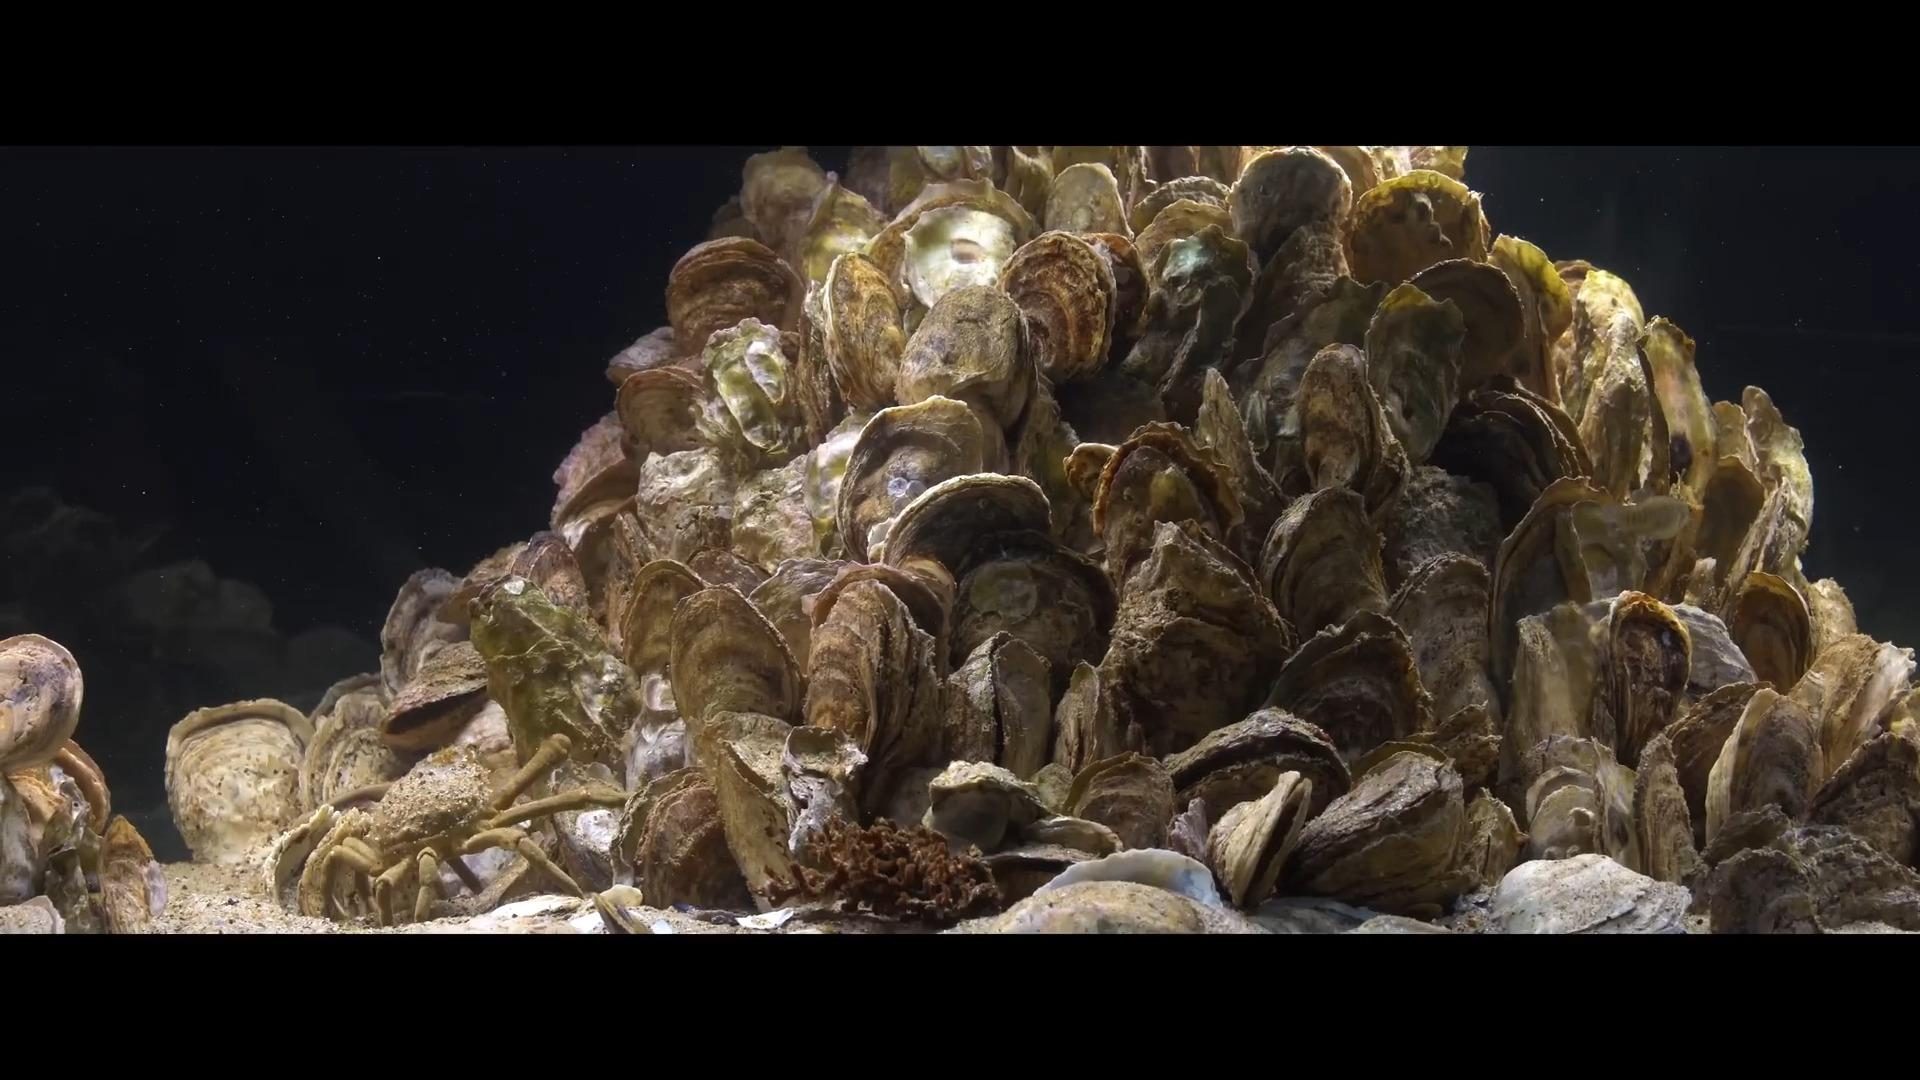Oyster: (469, 572, 645, 771), (1275, 745, 1470, 913), (1487, 475, 1623, 686), (804, 571, 938, 773), (832, 393, 988, 564), (1382, 550, 1506, 764), (947, 538, 1114, 692), (1084, 418, 1242, 579), (1108, 604, 1271, 757), (167, 700, 314, 869), (1265, 615, 1436, 756), (861, 178, 1030, 320), (1108, 513, 1271, 654), (1257, 481, 1393, 642), (705, 724, 820, 911), (1436, 389, 1581, 534), (1168, 707, 1344, 823), (1651, 679, 1776, 840), (895, 287, 1039, 427), (1222, 227, 1346, 384), (997, 227, 1120, 381), (1556, 262, 1650, 455), (1342, 164, 1486, 289), (674, 585, 802, 724), (1513, 731, 1639, 870), (881, 475, 1054, 576), (807, 248, 909, 418), (1598, 587, 1696, 764), (1799, 636, 1912, 785), (1552, 488, 1692, 608), (1367, 287, 1462, 463), (669, 240, 804, 361), (633, 773, 749, 914), (1292, 336, 1389, 505), (943, 629, 1046, 786), (1503, 608, 1596, 782), (1804, 729, 1920, 865), (1207, 767, 1316, 911), (1639, 315, 1720, 510), (1679, 448, 1768, 615), (632, 442, 750, 567), (299, 680, 405, 816), (1487, 232, 1576, 392), (702, 314, 800, 455), (1778, 829, 1920, 927), (1385, 460, 1501, 579), (380, 640, 497, 756), (748, 554, 855, 679), (1737, 382, 1812, 559), (617, 554, 707, 698), (927, 757, 1054, 858), (0, 633, 87, 777), (1056, 749, 1171, 856), (727, 454, 824, 576), (1127, 198, 1242, 302), (1006, 373, 1081, 525), (524, 781, 621, 897), (1059, 360, 1172, 459), (1704, 843, 1828, 932), (1630, 723, 1698, 882), (377, 566, 464, 691), (795, 177, 889, 293), (1247, 156, 1352, 256), (740, 146, 832, 258), (612, 364, 715, 462), (1662, 599, 1758, 703), (802, 414, 876, 549), (440, 538, 535, 636), (550, 451, 644, 547), (1733, 575, 1809, 692), (877, 142, 998, 216), (969, 844, 1098, 913), (95, 814, 166, 934), (790, 293, 845, 446), (1051, 657, 1113, 785), (1042, 160, 1131, 243), (564, 504, 632, 608), (1127, 173, 1233, 239), (44, 822, 103, 931), (50, 738, 112, 836), (603, 320, 684, 389), (1800, 575, 1861, 666), (522, 534, 591, 615), (1019, 812, 1124, 860), (841, 144, 903, 215), (1000, 144, 1056, 219), (1064, 442, 1118, 510), (1142, 146, 1207, 194)
